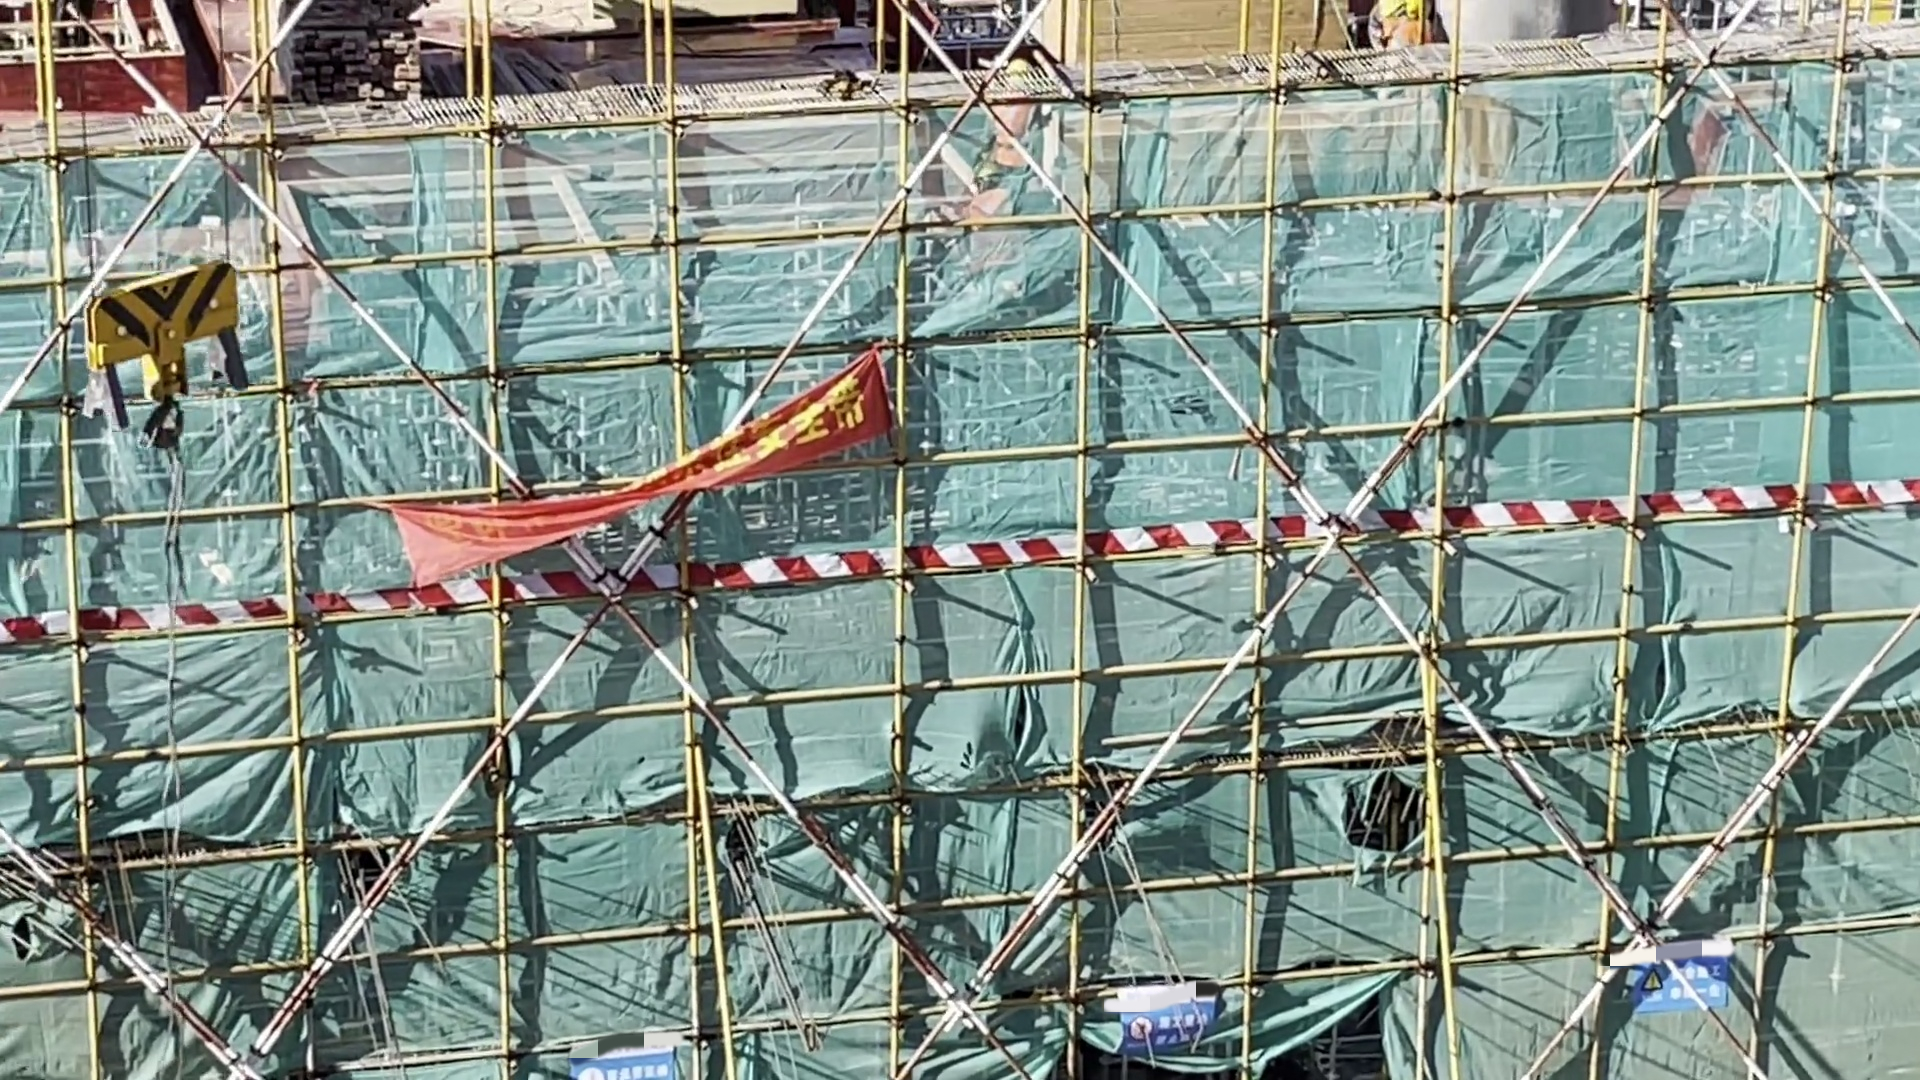slogan: (360, 342, 899, 582)
wood: (1031, 7, 1362, 69), (276, 7, 431, 108)
